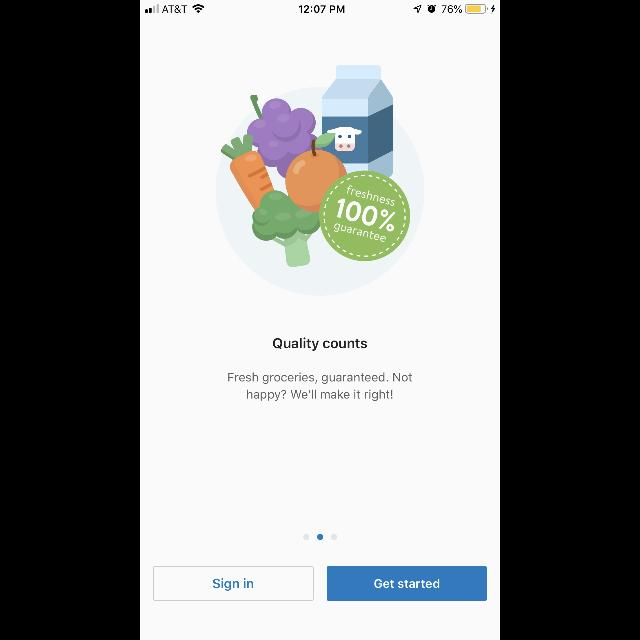image: (216, 64, 424, 296)
pageindicator: (303, 534, 337, 540)
text: (228, 373, 412, 401), (273, 338, 367, 350)
textbutton: (153, 566, 313, 600), (327, 566, 487, 600)
uppertaskbar: (140, 0, 500, 14)
